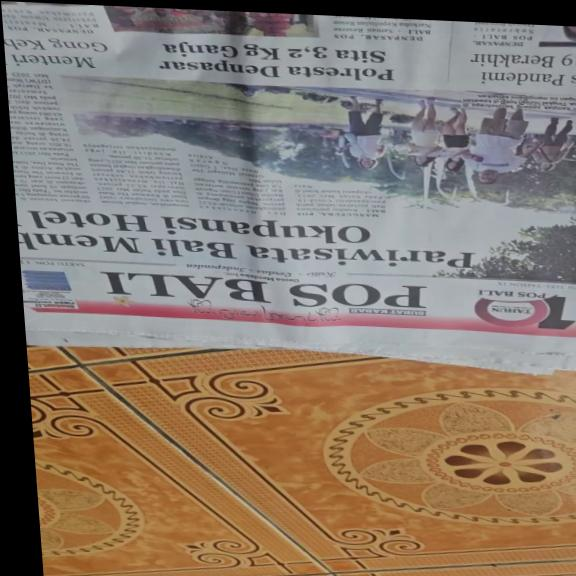Kertas: (9, 7, 576, 362)
